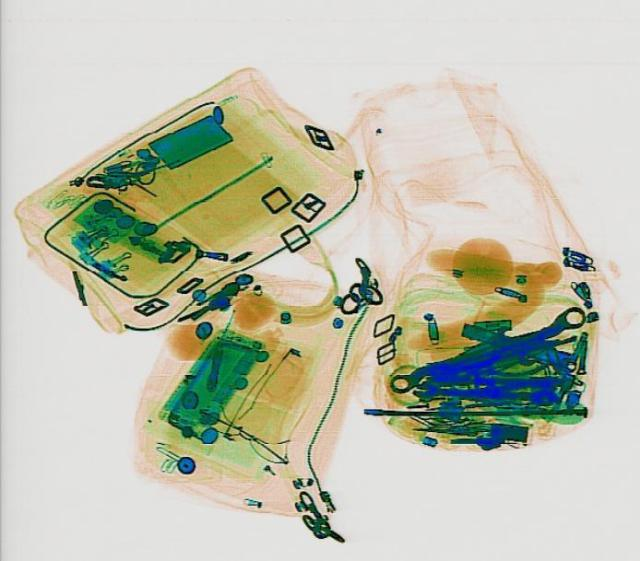Wrench: (384, 303, 588, 396), (411, 376, 553, 411)
